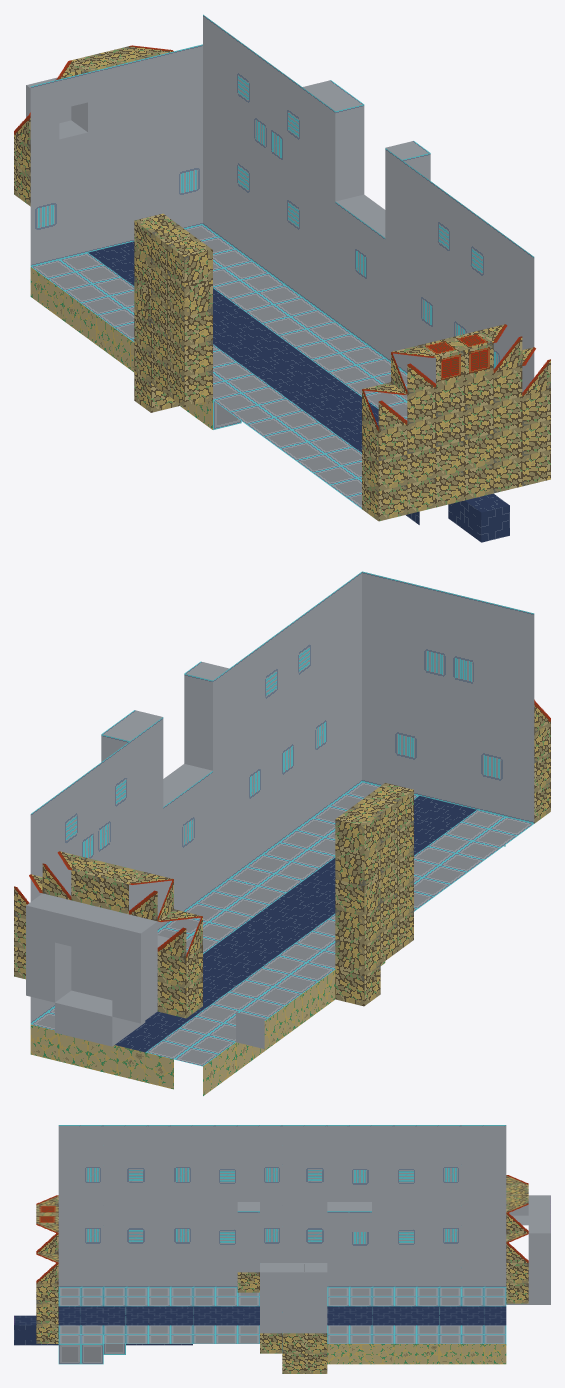
The model's file is BasicWorld_N_NoExit.gltf.
3 views of the same model, one above another, from view 1: azimuth 30°, elevation 25°; view 2: azimuth 150°, elevation 25°; view 3: azimuth 270°, elevation 25° (orthographic). The views are drawn at different scales.
Bounding box in the file's own units: 16 × 18 × 48.
1 material, 1 textured.
